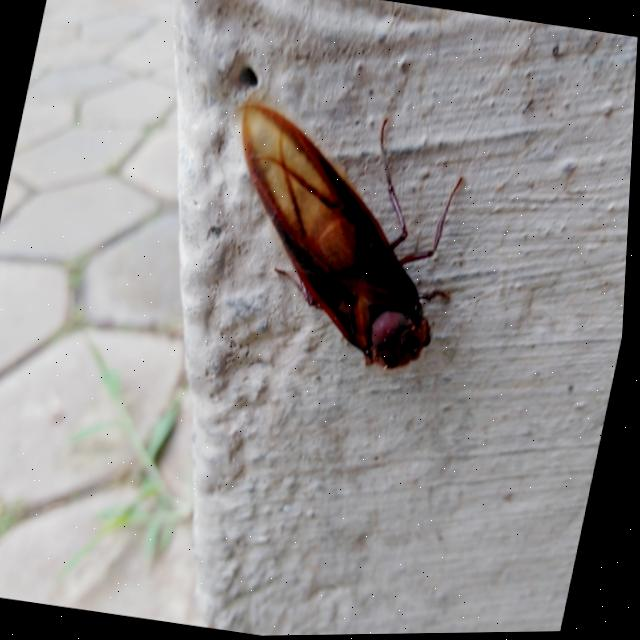Alive-Female-Alate: (186, 82, 491, 385)
